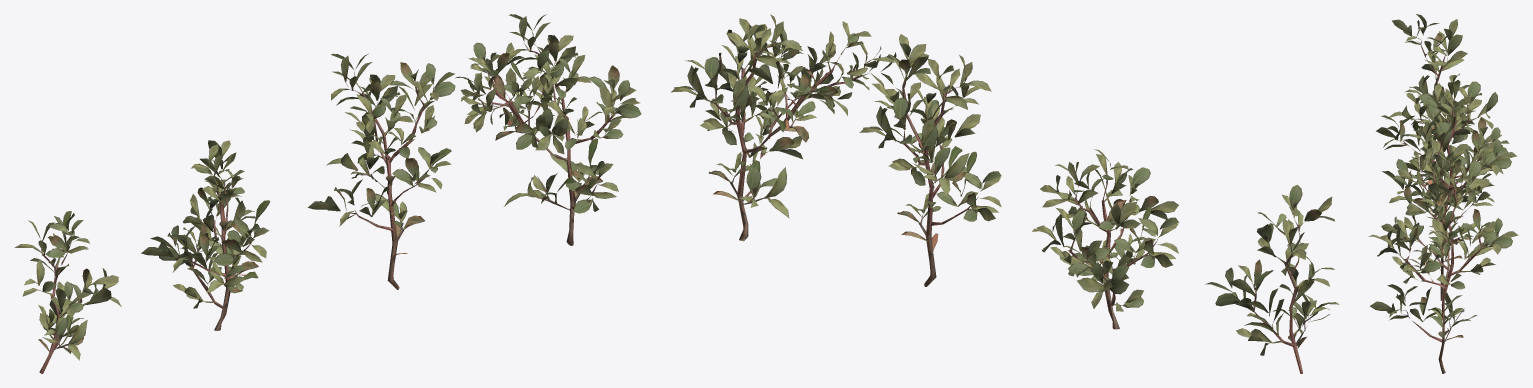
The model's file is shrub_04_lite.glb.
3 views of the same model, side by side, from view 1: azimuth 30°, elevation 25°; view 2: azimuth 150°, elevation 25°; view 3: azimuth 270°, elevation 25° (orthographic). The views are drawn at different scales.
Parts seen in each view (by area): view 1: shrub_04; view 2: shrub_04; view 3: shrub_04.
Boxes of the visible parts, left/top/right/bottom form: shrub_04: left=14, top=14, right=641, bottom=373; shrub_04: left=671, top=14, right=1339, bottom=373; shrub_04: left=1368, top=14, right=1518, bottom=373.
Bounding box in the file's own units: 0.5837 × 0.2192 × 0.1461.
1 material, 1 textured.
